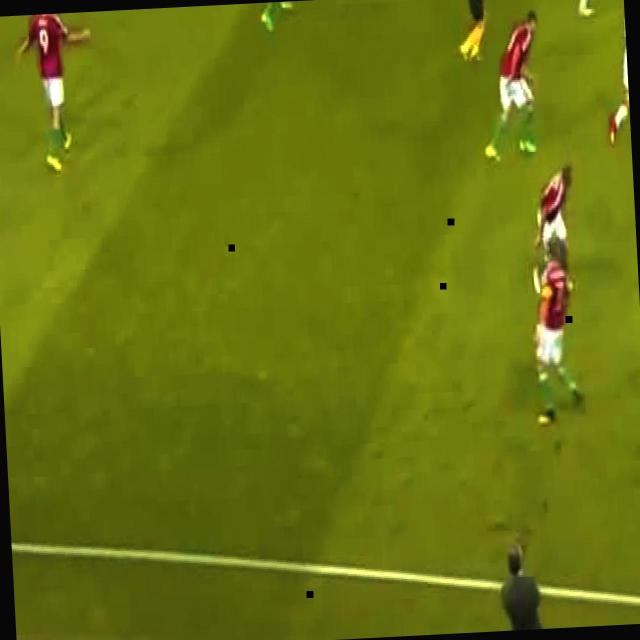player-white: (17, 12, 96, 172), (527, 237, 585, 421), (477, 12, 545, 158), (525, 163, 579, 293), (601, 0, 631, 146), (456, 0, 499, 62), (258, 0, 316, 30), (572, 0, 614, 16)
